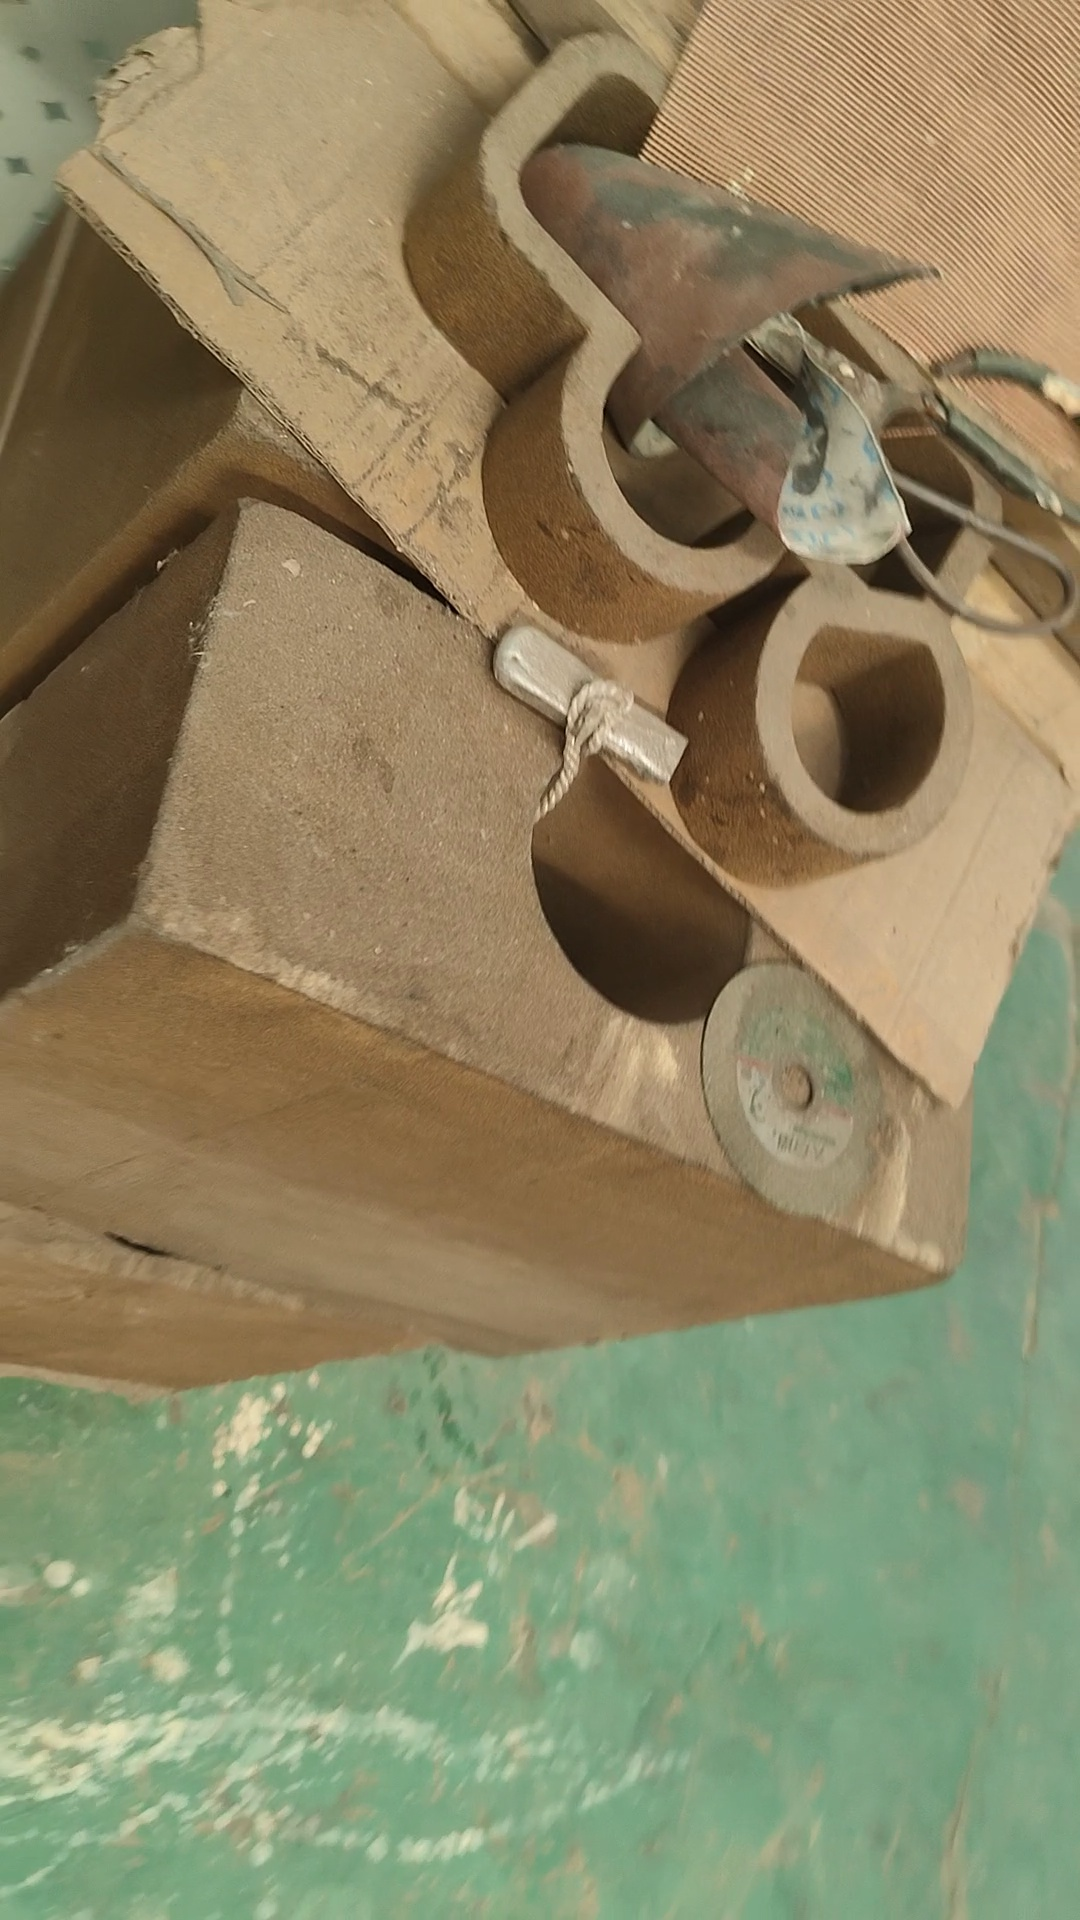pouring hole: (531, 738, 752, 1027)
